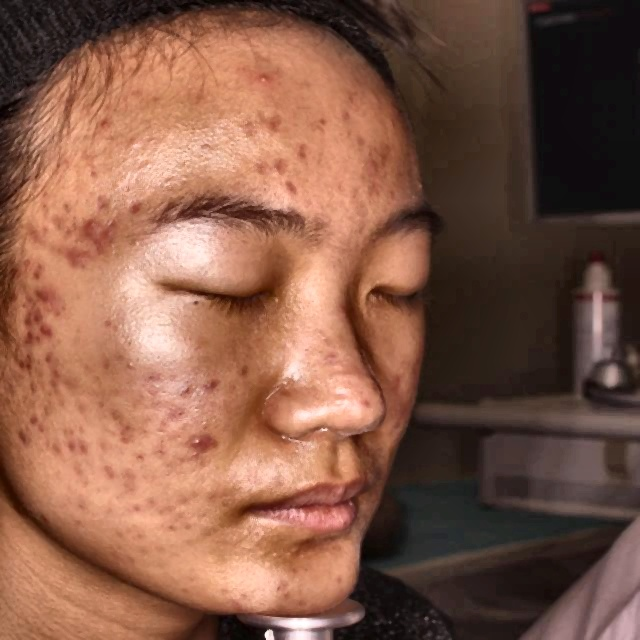papule: (270, 160, 309, 205), (2, 337, 38, 377), (79, 210, 112, 253), (20, 407, 60, 441), (64, 428, 108, 457), (46, 208, 79, 241), (181, 421, 207, 461), (32, 286, 67, 315), (111, 416, 150, 442), (24, 317, 70, 339), (12, 416, 34, 451), (252, 110, 278, 135), (30, 348, 57, 372), (22, 300, 51, 322), (58, 248, 92, 266), (226, 581, 249, 607), (19, 221, 46, 242), (49, 366, 70, 390), (29, 262, 49, 283), (253, 70, 274, 90), (200, 373, 218, 391)
